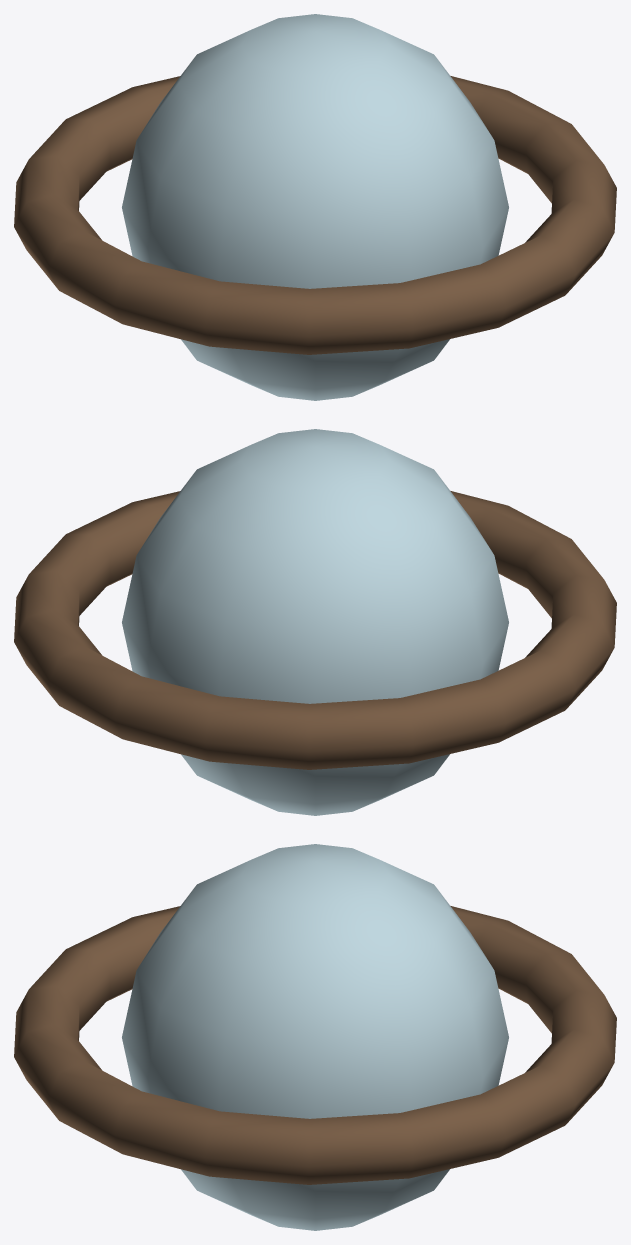
The model's file is skill.glb.
The picture shows the model from 3 angles, top to bottom: view 1: azimuth 30°, elevation 25°; view 2: azimuth 150°, elevation 25°; view 3: azimuth 270°, elevation 25°; orthographic projection.
Visible parts, largest first — view 1: skill_core, skill_ring; view 2: skill_core, skill_ring; view 3: skill_core, skill_ring.
Part boxes in pixels (x1=…): skill_core: x1=122, y1=14, x2=508, y2=400; skill_ring: x1=14, y1=76, x2=616, y2=354; skill_core: x1=122, y1=429, x2=508, y2=815; skill_ring: x1=14, y1=491, x2=616, y2=769; skill_core: x1=122, y1=844, x2=508, y2=1230; skill_ring: x1=14, y1=906, x2=616, y2=1184.
Size of the model in its own units: 0.6298 by 0.4 by 0.6227.
